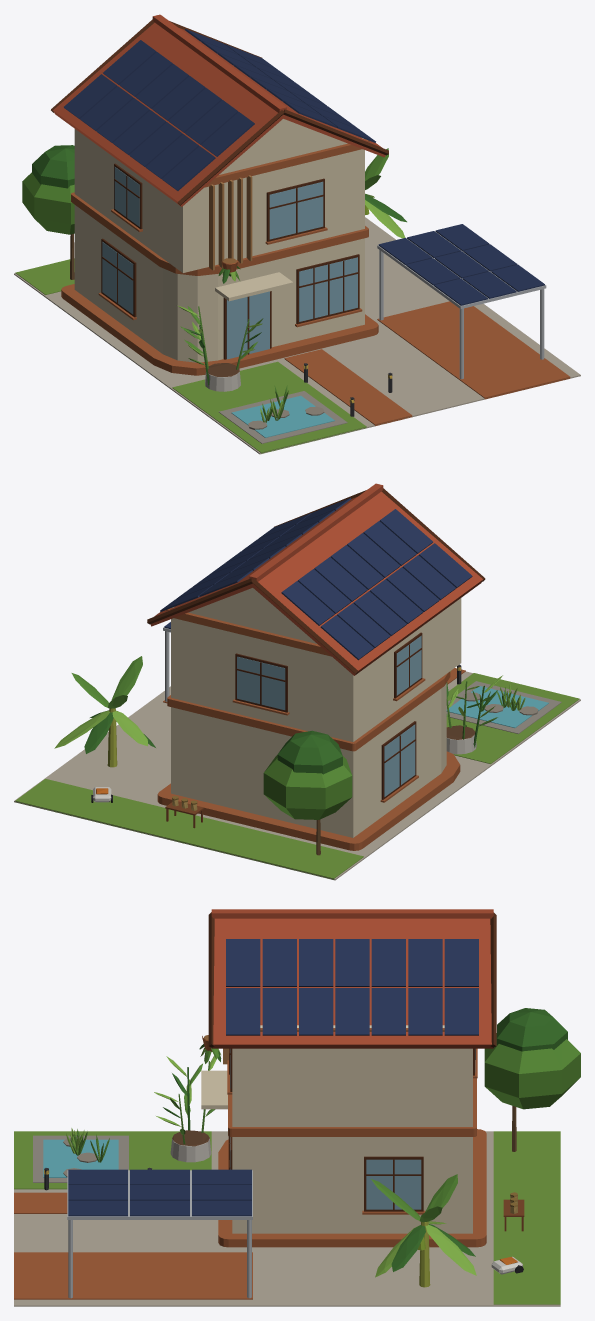
The model's file is house12_1.glb.
The picture shows the model from 3 angles, top to bottom: view 1: azimuth 30°, elevation 25°; view 2: azimuth 150°, elevation 25°; view 3: azimuth 270°, elevation 25°; orthographic projection. The views are drawn at different scales.
Visible parts, largest first — view 1: body; view 2: body; view 3: body.
Boxes of the visible parts, x1=… form: body: x1=14, y1=14, x2=580, y2=454; body: x1=14, y1=483, x2=580, y2=880; body: x1=14, y1=909, x2=580, y2=1306.
Size of the model in its own units: 12 by 9.07 by 16.5.
